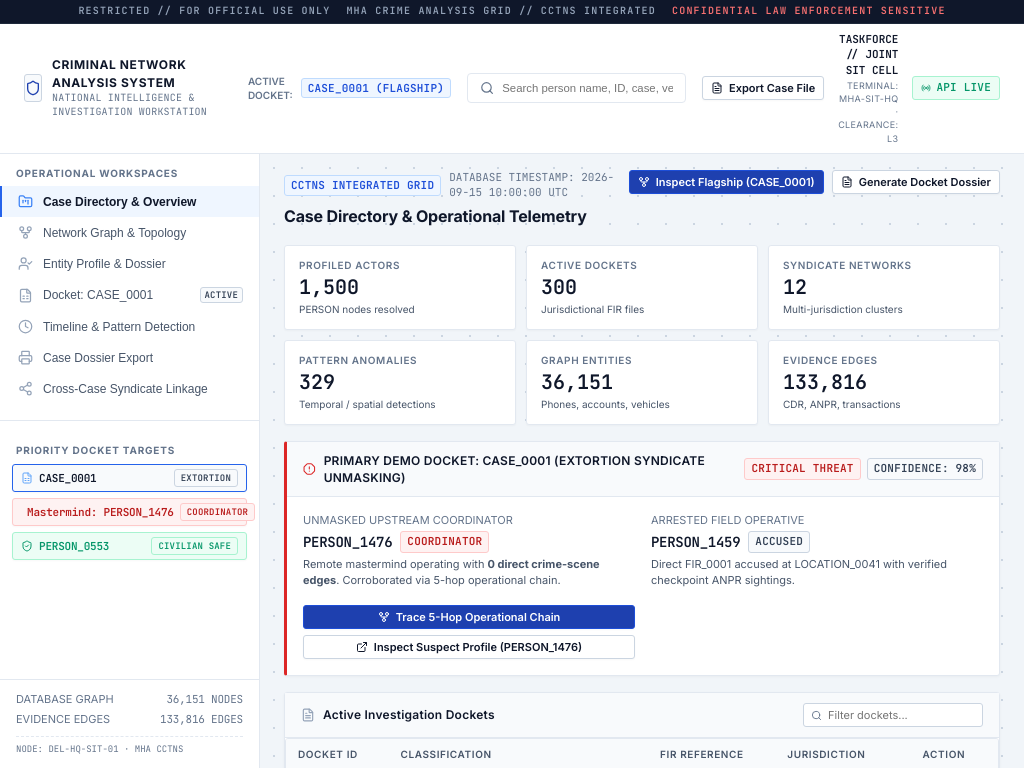
Scenario: SIH26189 Tactical Workstation Frontend Test Suite › navigates to Behavioral Findings page and applies filters
Navigate to Findings tab
Click the button with test id "nav-timeline".
click(130, 326)  # box [0,311,259,342]
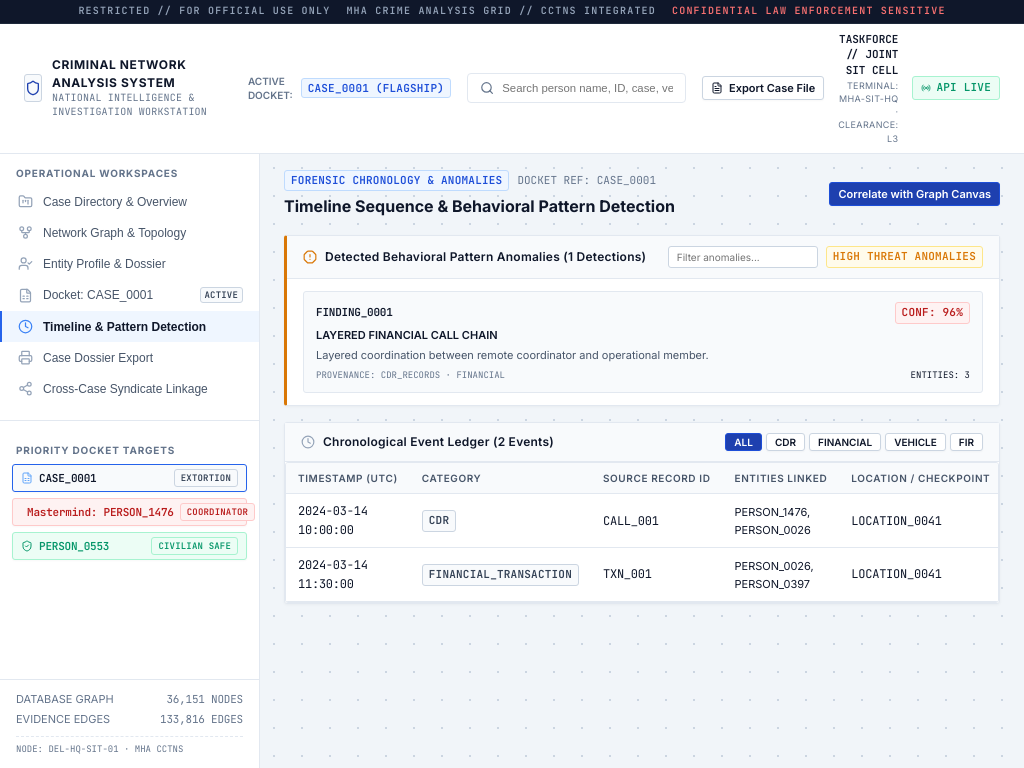
expect the heading "Timeline Sequence & Behavioral Pattern Detection" is shown: met, box [284,196,675,219]
expect the text "FINDING_0001" is shown: met, box [316,305,393,321]
expect the text "LAYERED FINANCIAL CALL CHAIN" is shown: met, box [316,328,498,342]
